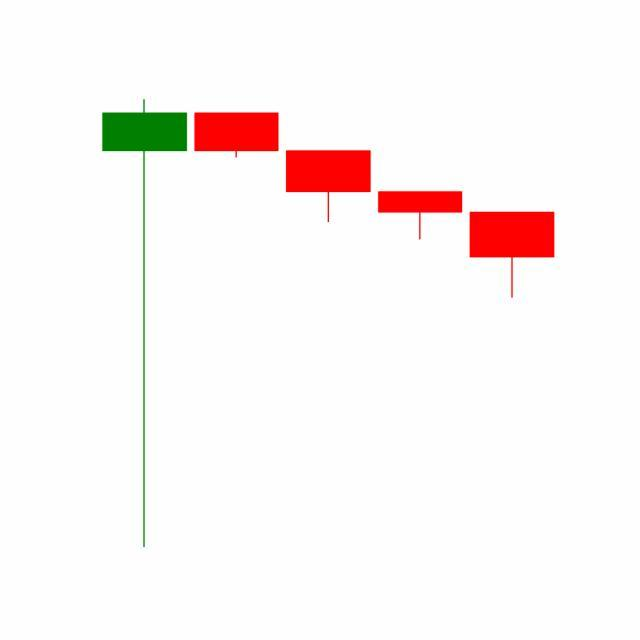Hammer: (374, 192, 468, 242)
